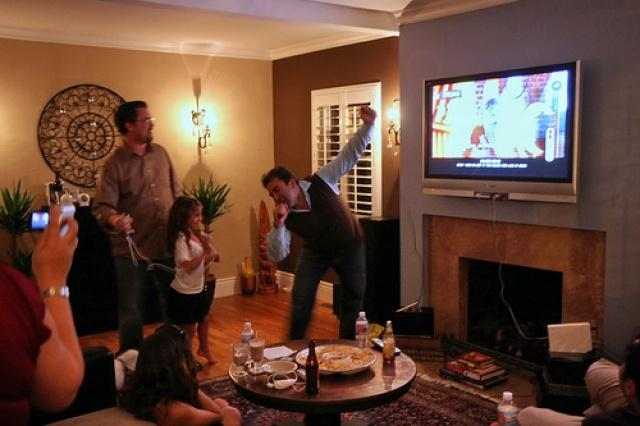AIO PC-Monitor-TV: (421, 59, 580, 203)
